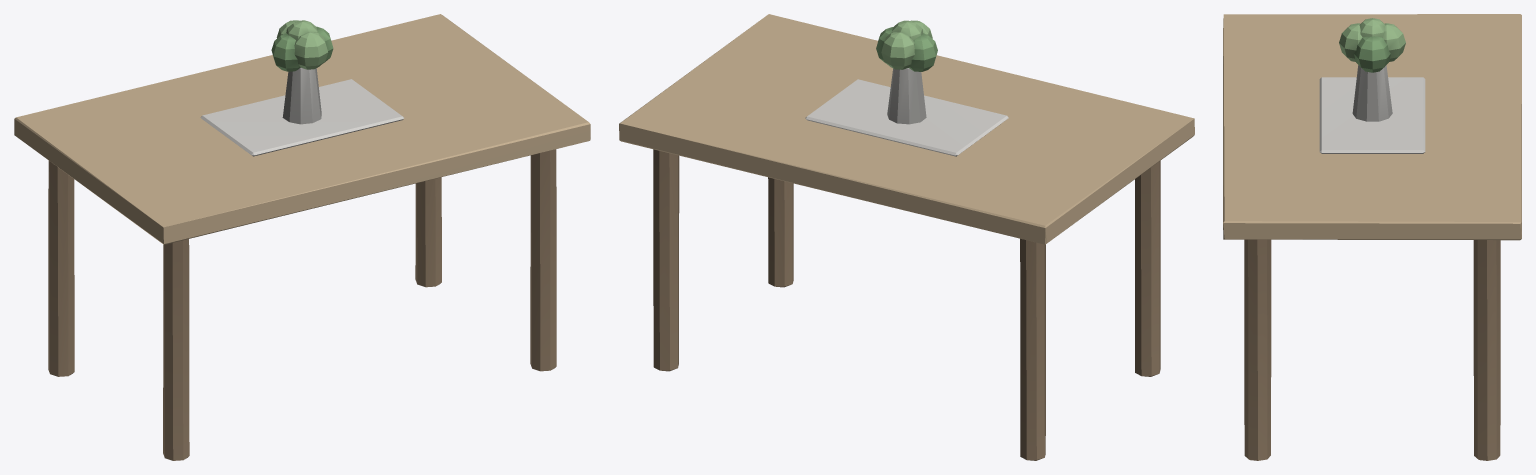
The model's file is furn_dining_table__oak_low.glb.
3 views of the same model, side by side, from view 1: azimuth 30°, elevation 25°; view 2: azimuth 150°, elevation 25°; view 3: azimuth 270°, elevation 25° (orthographic).
Size of the model in its own units: 1.4 by 1.09 by 0.8468.
